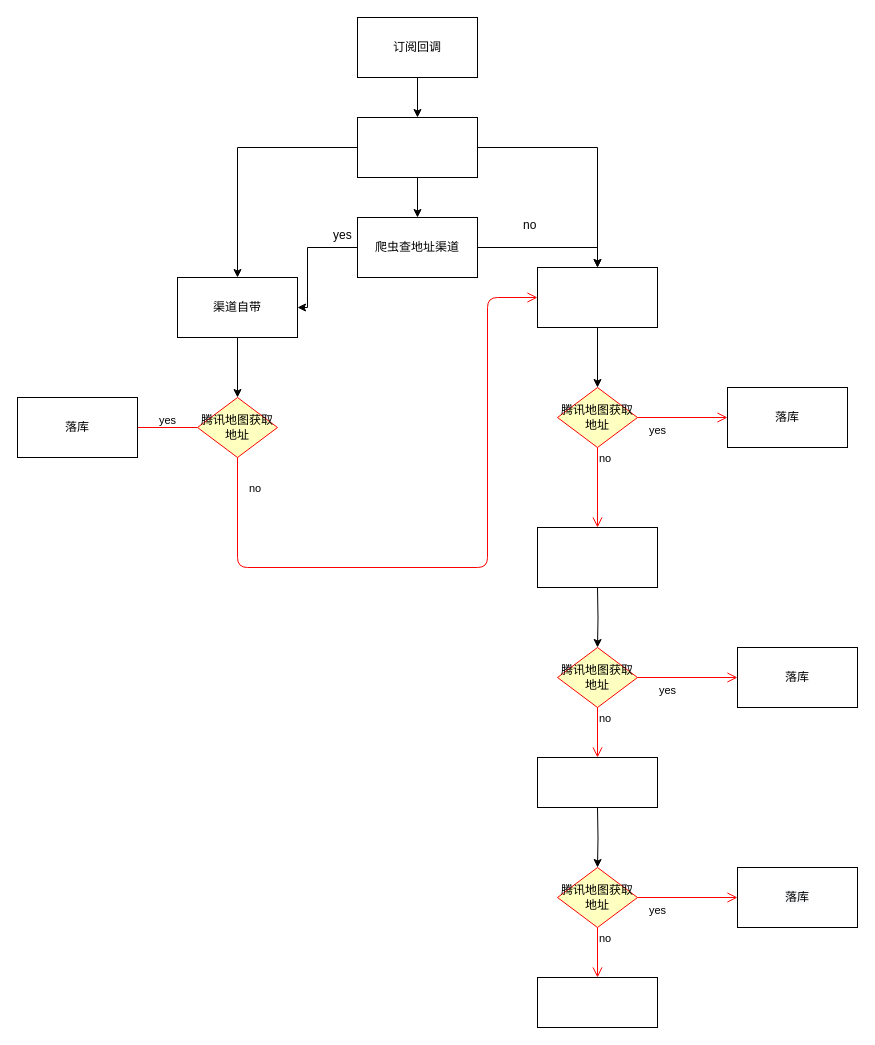
This 875x1045 diagram has some shape labels left out. The centre of each missing label's shape, as x and y in pixels:
"(已揽收,派送中)截取网点文本解析" goes at [597,557].
"(运输中)文本解析" goes at [597,782].
"四级地址库匹配" goes at [597,1002].
"文本解析" goes at [597,297].
"选择策略" goes at [417,147].
